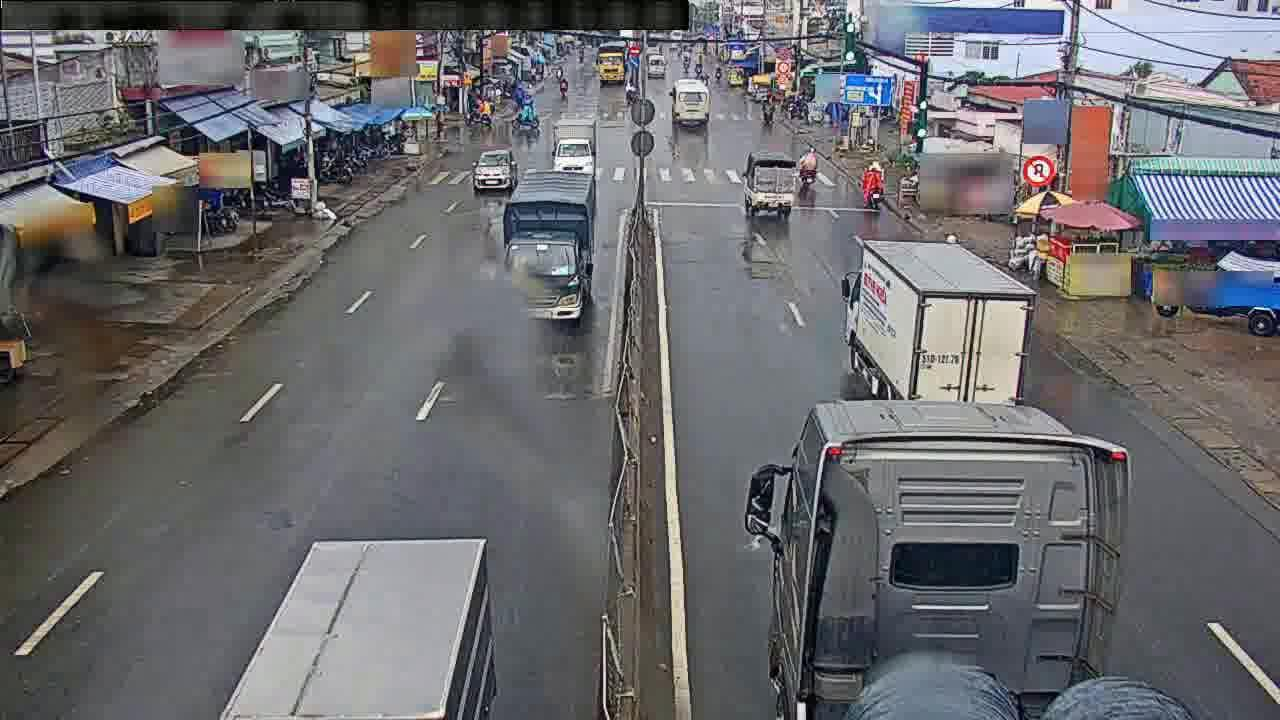8: (785, 411, 1198, 720), (848, 239, 1007, 400), (493, 173, 597, 314), (744, 145, 794, 221), (548, 116, 597, 177)
container: (472, 145, 515, 192)
motorbike: (859, 157, 886, 210), (795, 144, 818, 185)
